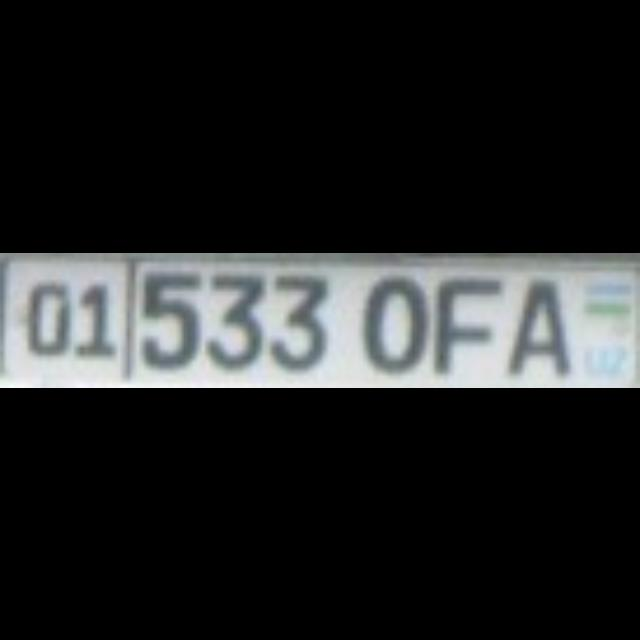0: (18, 280, 66, 350)
1: (70, 280, 108, 350)
3: (262, 266, 322, 364), (201, 266, 257, 364)
5: (136, 266, 197, 364)
A: (504, 271, 566, 369)
F: (430, 271, 500, 369)
O: (360, 270, 420, 364)
